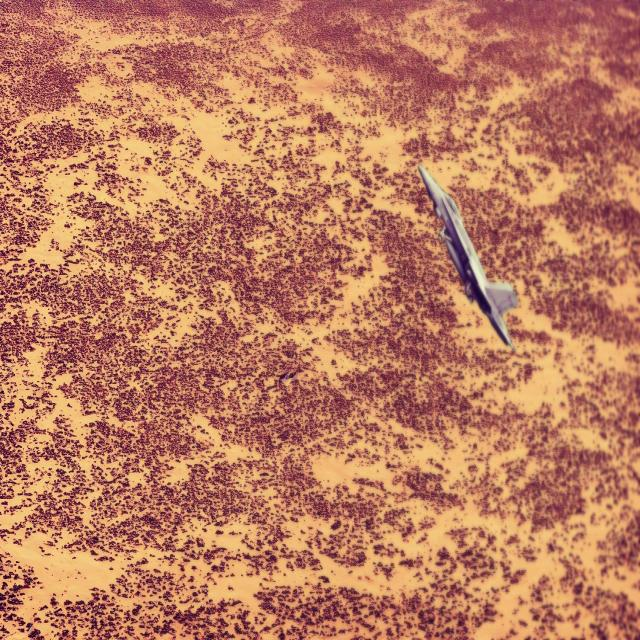airplane: (417, 162, 518, 353)
